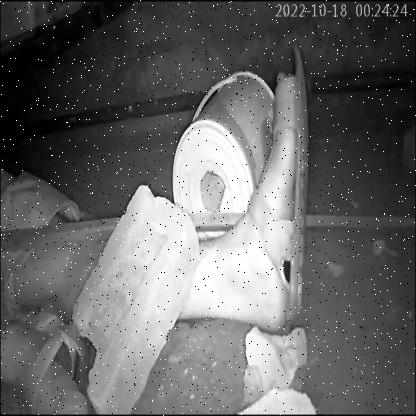leg: (170, 27, 327, 344)
